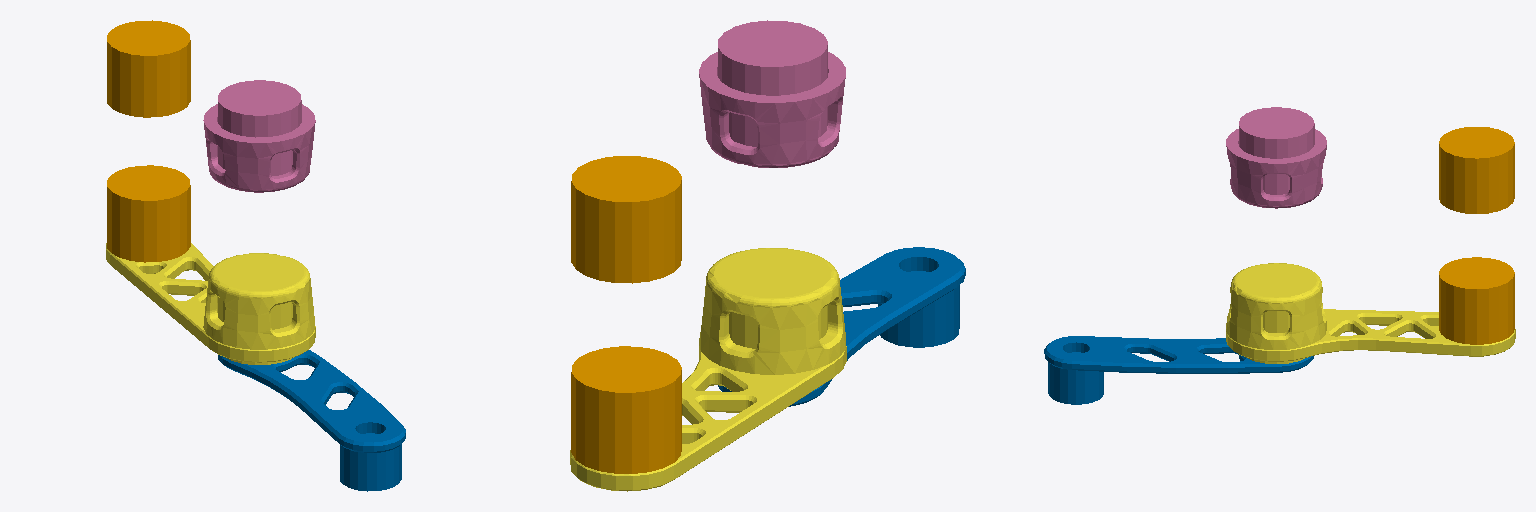
URDF robot description (generated_robot):
<?xml version='1.0' encoding='utf-8'?>
<robot name="generated_robot">
  <link name="base_link">
    <inertial>
      <origin xyz="0.014197555 -0.005112631 -3.8149928e-05" rpy="0 0 0" />
      <mass value="0.65390651" />
      <inertia ixx="0.0017655776" iyy="0.0025050886" izz="0.0015038221" ixy="-5.402448e-05" ixz="-1.4408781e-06" iyz="4.4150918e-07" />
    </inertial>
    <visual>
      <origin xyz="-0.01 0.00055265617 0" rpy="0 0 0" />
      <geometry>
        <mesh filename="../meshes/base_link.stl" scale="0.001 0.001 0.001" />
      </geometry>
    </visual>
    <visual>
      <origin xyz="-0.01 0.00055265617 0" rpy="0 0 0" />
      <geometry>
        <mesh filename="../meshes/base_link_drawer.stl" scale="0.001 0.001 0.001" />
      </geometry>
    </visual>
    <visual>
      <origin xyz="-0.01 0.00055265617 0" rpy="0 0 0" />
      <geometry>
        <mesh filename="../meshes/base_link_pi_case.stl" scale="0.001 0.001 0.001" />
      </geometry>
    </visual>
    <collision>
      <origin xyz="-0.01 0.00055265617 0" rpy="0 0 0" />
      <geometry>
        <mesh filename="../meshes/base_link.stl" scale="0.001 0.001 0.001" />
      </geometry>
    </collision>
    <collision>
      <origin xyz="-0.01 0.00055265617 0" rpy="0 0 0" />
      <geometry>
        <mesh filename="../meshes/base_link_drawer.stl" scale="0.001 0.001 0.001" />
      </geometry>
    </collision>
    <collision>
      <origin xyz="-0.01 0.00055265617 0" rpy="0 0 0" />
      <geometry>
        <mesh filename="../meshes/base_link_pi_case.stl" scale="0.001 0.001 0.001" />
      </geometry>
    </collision>
  </link>
  <link name="pi_case">
    <inertial>
      <origin xyz="0.019637859 0.047444148 -1.8690471e-08" rpy="0 0 0" />
      <mass value="0.18568137" />
      <inertia ixx="7.6578723e-05" iyy="0.000215452" izz="0.00015827532" ixy="1.042919e-06" ixz="-1.8717492e-12" iyz="-1.5443968e-11" />
    </inertial>
    <visual>
      <origin xyz="0 0 0" rpy="0 0 0" />
      <geometry>
        <mesh filename="../meshes/pi_case.stl" scale="0.001 0.001 0.001" />
      </geometry>
    </visual>
    <collision>
      <origin xyz="0 0 0" rpy="0 0 0" />
      <geometry>
        <mesh filename="../meshes/pi_case.stl" scale="0.001 0.001 0.001" />
      </geometry>
    </collision>
  </link>
  <link name="drawer">
    <inertial>
      <origin xyz="-0.021163816 -0.0079177637 1.1243328e-07" rpy="0 0 0" />
      <mass value="0.30004087" />
      <inertia ixx="0.00010370802" iyy="0.00050996598" izz="0.00050767286" ixy="2.8132621e-05" ixz="2.6864281e-09" iyz="-3.0884927e-09" />
    </inertial>
    <visual>
      <origin xyz="0 0 0" rpy="0 0 0" />
      <geometry>
        <mesh filename="../meshes/drawer.stl" scale="0.001 0.001 0.001" />
      </geometry>
    </visual>
    <collision>
      <origin xyz="0 0 0" rpy="0 0 0" />
      <geometry>
        <mesh filename="../meshes/drawer.stl" scale="0.001 0.001 0.001" />
      </geometry>
    </collision>
  </link>
  <link name="thigh_L">
    <inertial>
      <origin xyz="-0.0010654548 -0.12557878 0.0080683911" rpy="0 0 0" />
      <mass value="0.31421003" />
      <inertia ixx="0.00093794863" iyy="0.00017377959" izz="0.00095924492" ixy="1.3040602e-05" ixz="-4.3519838e-06" iyz="0.00010033016" />
    </inertial>
    <visual>
      <origin xyz="-0.029238574 0 0.076995385" rpy="0 0 0" />
      <geometry>
        <mesh filename="../meshes/thigh_L.stl" scale="0.001 0.001 0.001" />
      </geometry>
    </visual>
    <visual>
      <origin xyz="-0.029238574 0 0.076995385" rpy="0 0 0" />
      <geometry>
        <mesh filename="../meshes/knee_cover_L.stl" scale="0.001 0.001 0.001" />
      </geometry>
    </visual>
    <visual>
      <origin xyz="-0.029238574 0 0.076995385" rpy="0 0 0" />
      <geometry>
        <mesh filename="../meshes/thigh_L_knee_cover_L.stl" scale="0.001 0.001 0.001" />
      </geometry>
    </visual>
    <collision>
      <origin xyz="-0.029238574 0 0.076995385" rpy="0 0 0" />
      <geometry>
        <mesh filename="../meshes/thigh_L.stl" scale="0.001 0.001 0.001" />
      </geometry>
    </collision>
    <collision>
      <origin xyz="-0.029238574 0 0.076995385" rpy="0 0 0" />
      <geometry>
        <mesh filename="../meshes/knee_cover_L.stl" scale="0.001 0.001 0.001" />
      </geometry>
    </collision>
    <collision>
      <origin xyz="-0.029238574 0 0.076995385" rpy="0 0 0" />
      <geometry>
        <mesh filename="../meshes/thigh_L_knee_cover_L.stl" scale="0.001 0.001 0.001" />
      </geometry>
    </collision>
  </link>
  <link name="calf_L">
    <inertial>
      <origin xyz="0.00139163 -0.099729266 -0.011213933" rpy="0 0 0" />
      <mass value="0.12169642" />
      <inertia ixx="0.00046522563" iyy="3.5931181e-05" izz="0.00047394395" ixy="-4.0225989e-06" ixz="-1.2209437e-06" iyz="-4.4102779e-05" />
    </inertial>
    <visual>
      <origin xyz="-0.029238574 0.15 0.092995385" rpy="0 0 0" />
      <geometry>
        <mesh filename="../meshes/calf_L.stl" scale="0.001 0.001 0.001" />
      </geometry>
    </visual>
    <visual>
      <origin xyz="-0.029238574 0.15 0.092995385" rpy="0 0 0" />
      <geometry>
        <mesh filename="../meshes/joint_knee_L.stl" scale="0.001 0.001 0.001" />
      </geometry>
    </visual>
    <collision>
      <origin xyz="-0.029238574 0.15 0.092995385" rpy="0 0 0" />
      <geometry>
        <mesh filename="../meshes/calf_L.stl" scale="0.001 0.001 0.001" />
      </geometry>
    </collision>
    <collision>
      <origin xyz="-0.029238574 0.15 0.092995385" rpy="0 0 0" />
      <geometry>
        <mesh filename="../meshes/joint_knee_L.stl" scale="0.001 0.001 0.001" />
      </geometry>
    </collision>
  </link>
  <link name="wheel_L">
    <inertial>
      <origin xyz="8.4838829e-06 2.4625544e-06 -0.0064020961" rpy="0 0 0" />
      <mass value="0.052800526" />
      <inertia ixx="2.2085346e-05" iyy="2.209416e-05" izz="4.0917249e-05" ixy="7.2714343e-13" ixz="4.9179486e-10" iyz="-4.6303858e-14" />
    </inertial>
    <visual>
      <origin xyz="-0.029238574 -0.29999754 -0.13" rpy="-3.1415927 0 0" />
      <geometry>
        <mesh filename="../meshes/wheel_L.stl" scale="0.001 0.001 0.001" />
      </geometry>
    </visual>
    <collision>
      <origin xyz="-0.029238574 -0.29999754 -0.13" rpy="-3.1415927 0 0" />
      <geometry>
        <mesh filename="../meshes/wheel_L.stl" scale="0.001 0.001 0.001" />
      </geometry>
    </collision>
  </link>
  <link name="thigh_R">
    <inertial>
      <origin xyz="-0.0010649939 -0.12558001 0.014930958" rpy="0 0 0" />
      <mass value="0.31421685" />
      <inertia ixx="0.00093797345" iyy="0.00017378959" izz="0.00095926746" ixy="1.3046081e-05" ixz="4.3561899e-06" iyz="-0.00010034161" />
    </inertial>
    <visual>
      <origin xyz="-0.029238574 0 -0.053995385" rpy="0 0 0" />
      <geometry>
        <mesh filename="../meshes/thigh_R.stl" scale="0.001 0.001 0.001" />
      </geometry>
    </visual>
    <visual>
      <origin xyz="-0.029238574 0 -0.053995385" rpy="0 0 0" />
      <geometry>
        <mesh filename="../meshes/knee_cover_R.stl" scale="0.001 0.001 0.001" />
      </geometry>
    </visual>
    <visual>
      <origin xyz="-0.029238574 0 -0.053995385" rpy="0 0 0" />
      <geometry>
        <mesh filename="../meshes/thigh_R_knee_cover_R.stl" scale="0.001 0.001 0.001" />
      </geometry>
    </visual>
    <collision>
      <origin xyz="-0.029238574 0 -0.053995385" rpy="0 0 0" />
      <geometry>
        <mesh filename="../meshes/thigh_R.stl" scale="0.001 0.001 0.001" />
      </geometry>
    </collision>
    <collision>
      <origin xyz="-0.029238574 0 -0.053995385" rpy="0 0 0" />
      <geometry>
        <mesh filename="../meshes/knee_cover_R.stl" scale="0.001 0.001 0.001" />
      </geometry>
    </collision>
    <collision>
      <origin xyz="-0.029238574 0 -0.053995385" rpy="0 0 0" />
      <geometry>
        <mesh filename="../meshes/thigh_R_knee_cover_R.stl" scale="0.001 0.001 0.001" />
      </geometry>
    </collision>
  </link>
  <link name="calf_R">
    <inertial>
      <origin xyz="0.00139163 -0.099729266 0.034213933" rpy="0 0 0" />
      <mass value="0.12169642" />
      <inertia ixx="0.00046522563" iyy="3.5931181e-05" izz="0.00047394395" ixy="-4.0225989e-06" ixz="1.2209437e-06" iyz="4.4102779e-05" />
    </inertial>
    <visual>
      <origin xyz="-0.029238574 0.15 -0.069995385" rpy="0 0 0" />
      <geometry>
        <mesh filename="../meshes/calf_R.stl" scale="0.001 0.001 0.001" />
      </geometry>
    </visual>
    <visual>
      <origin xyz="-0.029238574 0.15 -0.069995385" rpy="0 0 0" />
      <geometry>
        <mesh filename="../meshes/joint_knee_R.stl" scale="0.001 0.001 0.001" />
      </geometry>
    </visual>
    <collision>
      <origin xyz="-0.029238574 0.15 -0.069995385" rpy="0 0 0" />
      <geometry>
        <mesh filename="../meshes/calf_R.stl" scale="0.001 0.001 0.001" />
      </geometry>
    </collision>
    <collision>
      <origin xyz="-0.029238574 0.15 -0.069995385" rpy="0 0 0" />
      <geometry>
        <mesh filename="../meshes/joint_knee_R.stl" scale="0.001 0.001 0.001" />
      </geometry>
    </collision>
  </link>
  <link name="wheel_R">
    <inertial>
      <origin xyz="1.7824113e-10 1.0943771e-05 0.0064021559" rpy="0 0 0" />
      <mass value="0.052816323" />
      <inertia ixx="2.2104362e-05" iyy="2.209555e-05" izz="4.0937246e-05" ixy="3.6507177e-13" ixz="-4.6082058e-14" iyz="-4.9177112e-10" />
    </inertial>
    <visual>
      <origin xyz="-0.029238574 -0.29999754 0.13" rpy="-3.1415927 0 0" />
      <geometry>
        <mesh filename="../meshes/wheel_R.stl" scale="0.001 0.001 0.001" />
      </geometry>
    </visual>
    <collision>
      <origin xyz="-0.029238574 -0.29999754 0.13" rpy="-3.1415927 0 0" />
      <geometry>
        <mesh filename="../meshes/wheel_R.stl" scale="0.001 0.001 0.001" />
      </geometry>
    </collision>
  </link>
  <joint name="joint_pi_case_R" type="fixed">
    <origin xyz="-0.01 0.00055265617 0" rpy="0 0 0" />
    <parent link="base_link" />
    <child link="pi_case" />
  </joint>
  <joint name="joint_drawer_R" type="fixed">
    <origin xyz="-0.01 0.00055265617 0" rpy="0 0 0" />
    <parent link="base_link" />
    <child link="drawer" />
  </joint>
  <joint name="joint_thigh_L" type="revolute">
    <origin xyz="0.019238574 0.00055265617 -0.076995385" rpy="0 0 0" />
    <parent link="base_link" />
    <child link="thigh_L" />
    <axis xyz="0 0 1" />
    <limit lower="-1.57" upper="1.57" effort="10" velocity="5" />
  </joint>
  <joint name="joint_calf_L" type="revolute">
    <origin xyz="0 -0.15 -0.016" rpy="0 0 0" />
    <parent link="thigh_L" />
    <child link="calf_L" />
    <axis xyz="0 0 1" />
    <limit lower="-1.57" upper="1.57" effort="10" velocity="5" />
  </joint>
  <joint name="joint_wheel_L" type="revolute">
    <origin xyz="0 -0.14999754 -0.037004615" rpy="3.1415927 0 0" />
    <parent link="calf_L" />
    <child link="wheel_L" />
    <axis xyz="0 0 1" />
    <limit lower="-3.14" upper="3.14" effort="10" velocity="5" />
  </joint>
  <joint name="joint_thigh_R" type="revolute">
    <origin xyz="0.019238574 0.00055265617 0.053995385" rpy="0 0 0" />
    <parent link="base_link" />
    <child link="thigh_R" />
    <axis xyz="0 0 1" />
    <limit lower="-1.57" upper="1.57" effort="10" velocity="5" />
  </joint>
  <joint name="joint_calf_R" type="revolute">
    <origin xyz="0 -0.15 0.016" rpy="0 0 0" />
    <parent link="thigh_R" />
    <child link="calf_R" />
    <axis xyz="0 0 1" />
    <limit lower="-1.57" upper="1.57" effort="10" velocity="5" />
  </joint>
  <joint name="joint_wheel_R" type="revolute">
    <origin xyz="0 -0.14999754 0.060004615" rpy="3.1415927 0 0" />
    <parent link="calf_R" />
    <child link="wheel_R" />
    <axis xyz="0 0 1" />
    <limit lower="-3.14" upper="3.14" effort="10" velocity="5" />
  </joint>
</robot>

--- Facts derived from the render (not from the file) ---
3 views of the same robot in one strip: view 1: azimuth 30°, elevation 25°; view 2: azimuth 150°, elevation 25°; view 3: azimuth 270°, elevation 25° (orthographic).
Robot: generated_robot — 9 links, 8 joints (6 revolute, 2 fixed); root link base_link; default pose: all joints at 0.
Visible links, largest first — view 1: thigh_L, base_link, thigh_R, calf_L; view 2: thigh_L, base_link, thigh_R, calf_L; view 3: thigh_L, base_link, calf_L, thigh_R.
Link boxes in pixels (x1,y1,x2,y2): thigh_L: (106,243,315,364); base_link: (107,20,190,262); thigh_R: (203,80,315,192); calf_L: (218,350,405,491); thigh_L: (570,248,846,491); base_link: (571,156,681,473); thigh_R: (699,20,845,167); calf_L: (718,247,965,406); thigh_L: (1226,263,1515,363); base_link: (1439,127,1514,344); calf_L: (1044,336,1313,404); thigh_R: (1226,107,1326,208).
Bounding box of the posed robot: 0.0759 × 0.3528 × 0.223 m (x, y, z).
9 mesh visuals loaded from 17 distinct referenced files (9 binary STL); not drawn: 8 (reference not matched to a file when rendering).
